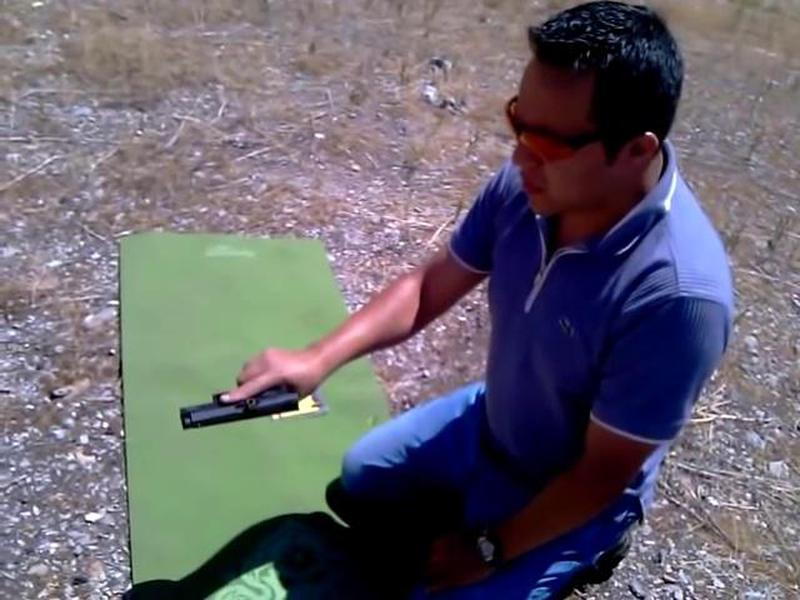Pistola: (164, 355, 312, 470)
